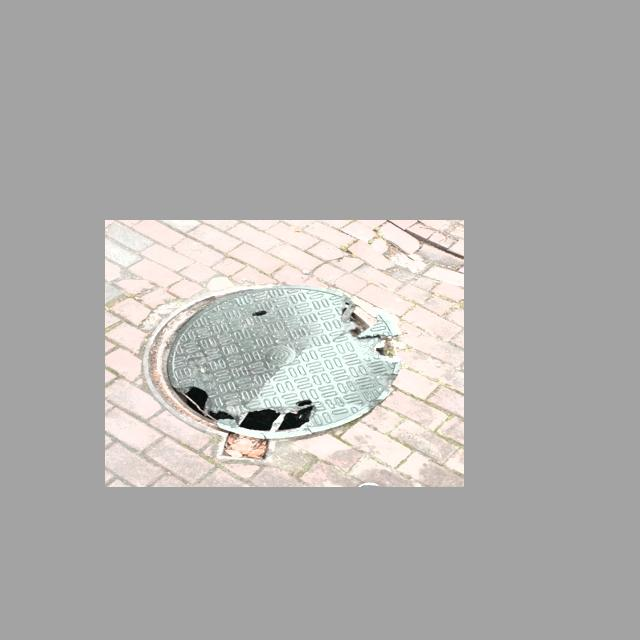broke: (142, 285, 403, 460)
